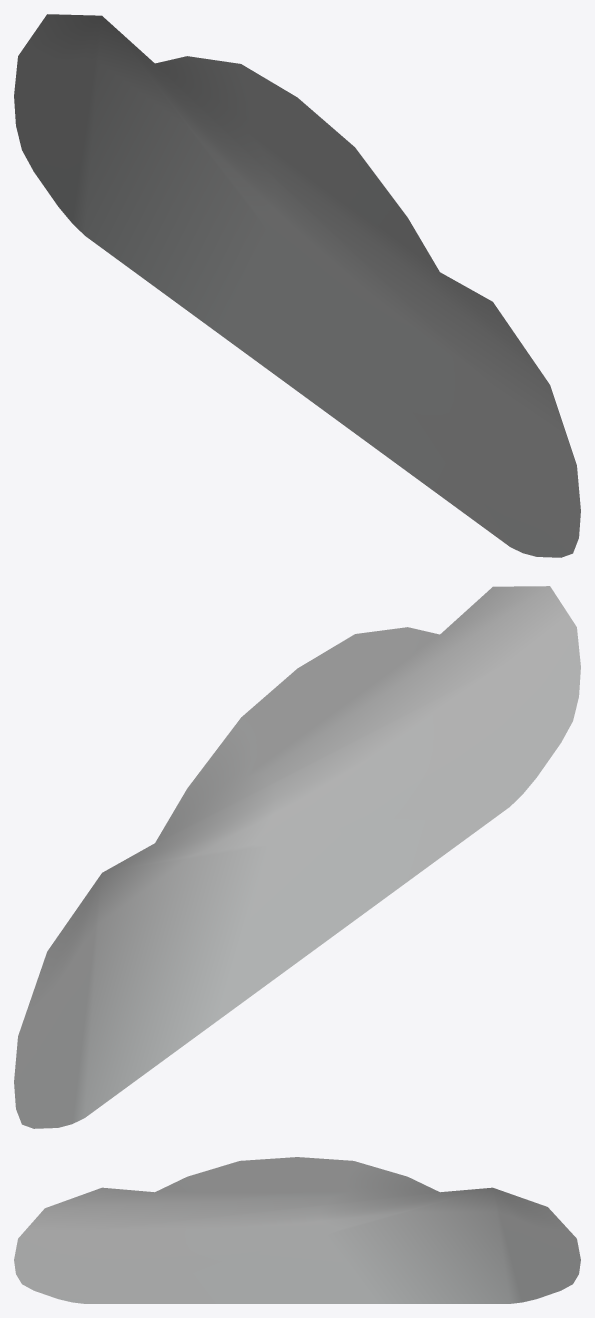
The model's file is Cloud.fbx.
The picture shows the model from 3 angles, top to bottom: view 1: azimuth 30°, elevation 25°; view 2: azimuth 150°, elevation 25°; view 3: azimuth 270°, elevation 25°; orthographic projection. The views are drawn at different scales.
Parts seen in each view (by area): view 1: Cloud; view 2: Cloud; view 3: Cloud.
Boxes of the visible parts, bbox=[...] form: Cloud: bbox=[14, 14, 580, 557]; Cloud: bbox=[14, 586, 580, 1128]; Cloud: bbox=[14, 1157, 580, 1303].
Size of the model in its own units: 1.51e-05 by 57.21 by 200.
